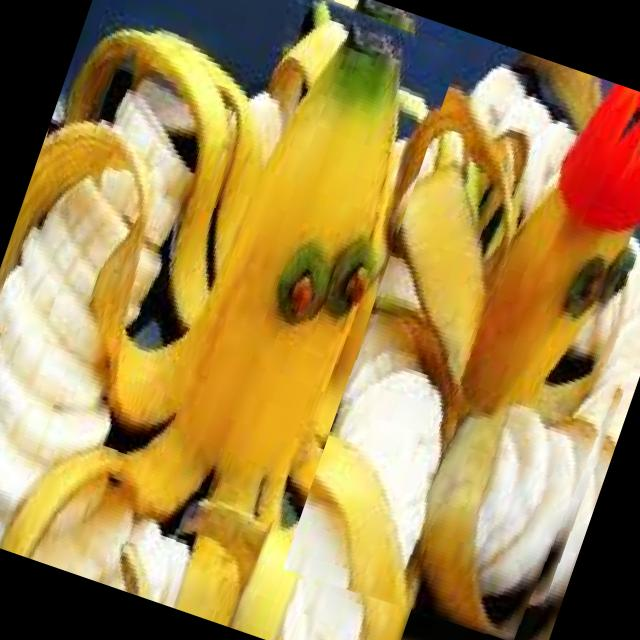Organic: (0, 0, 640, 640), (0, 0, 602, 640), (282, 32, 640, 640)
